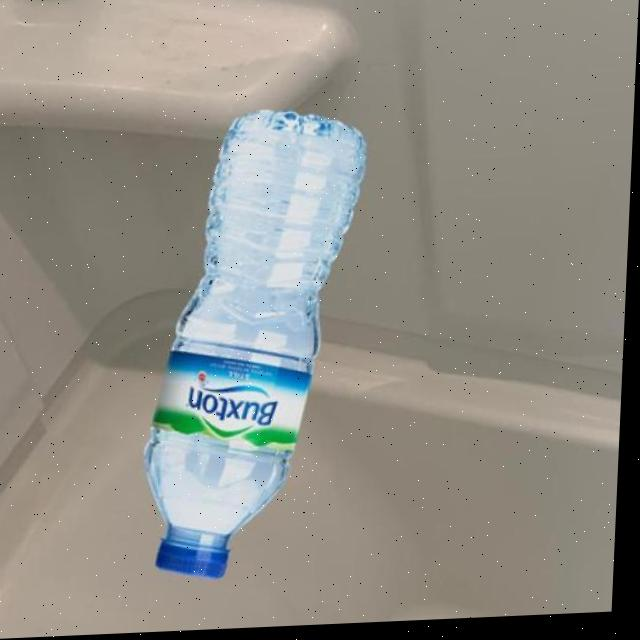bottle: (142, 106, 371, 583)
